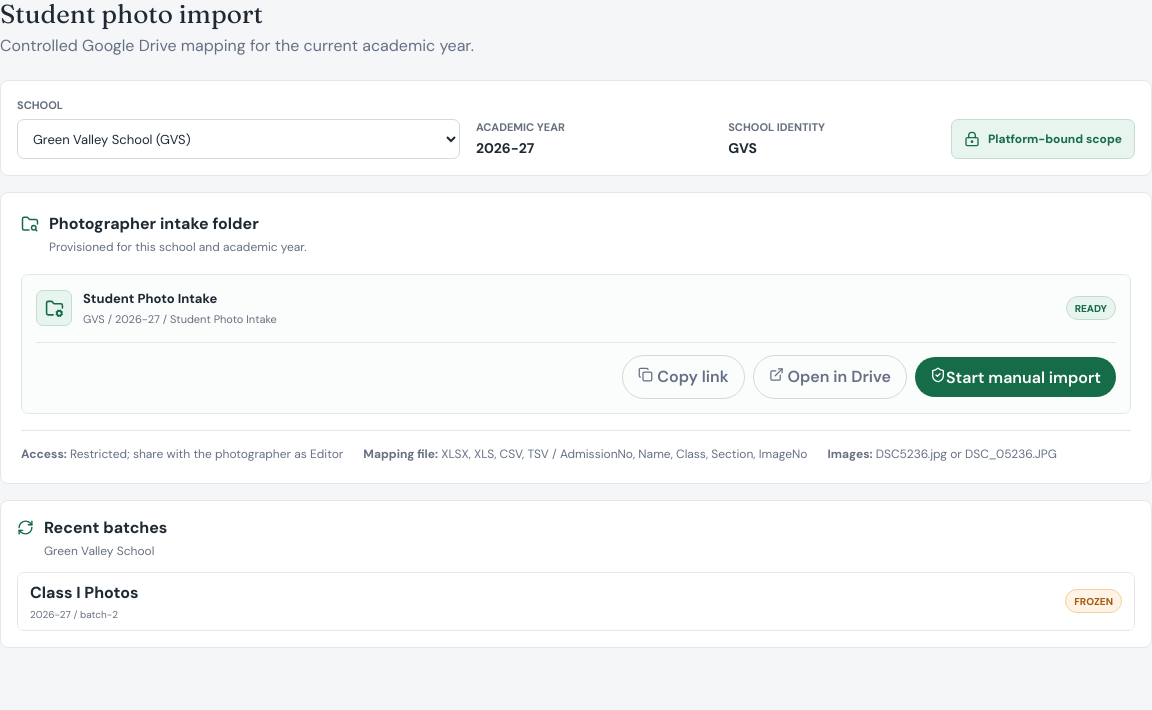
Test: PhotoImportPanel › requires scope confirmation and completes resumable execution chunks
Click the button "Class I Photos 2026-27 / batch-2 FROZEN": (84, 592) [18,573,1134,630]
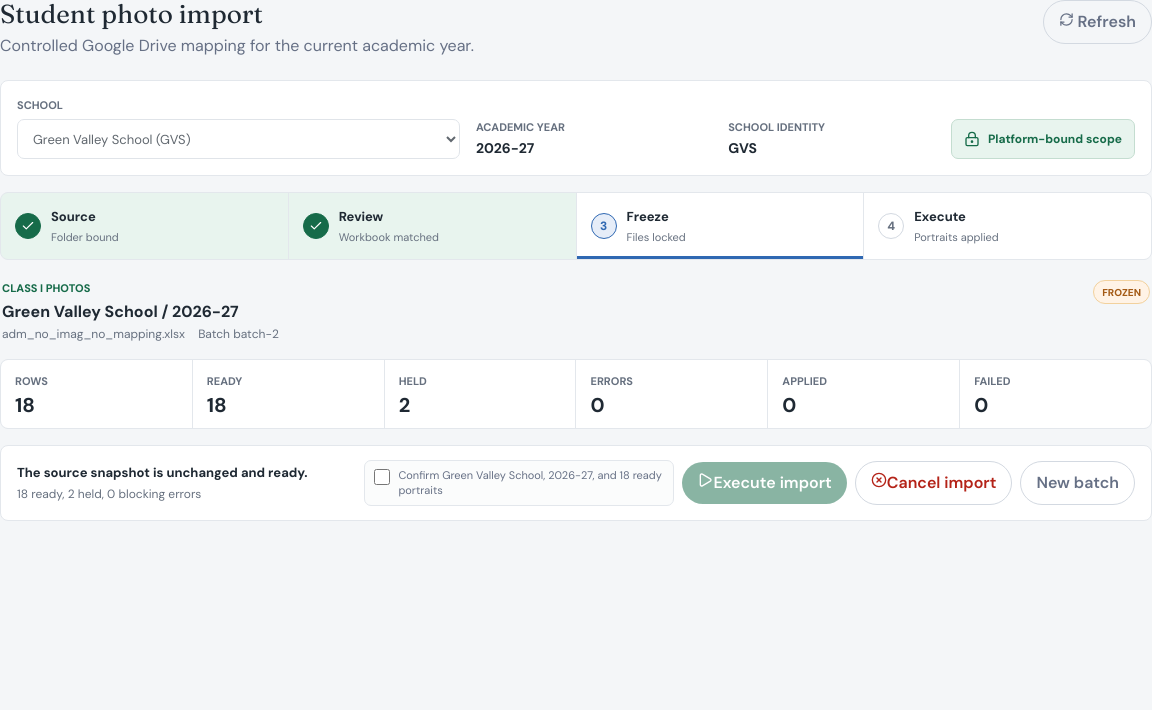
Check: the button "Execute import" is disabled, box [682,462,847,504]
Click the checkbox labelled "Confirm Green Valley School, 2026-27, and 18 ready portraits": (382, 477) [374,469,390,485]
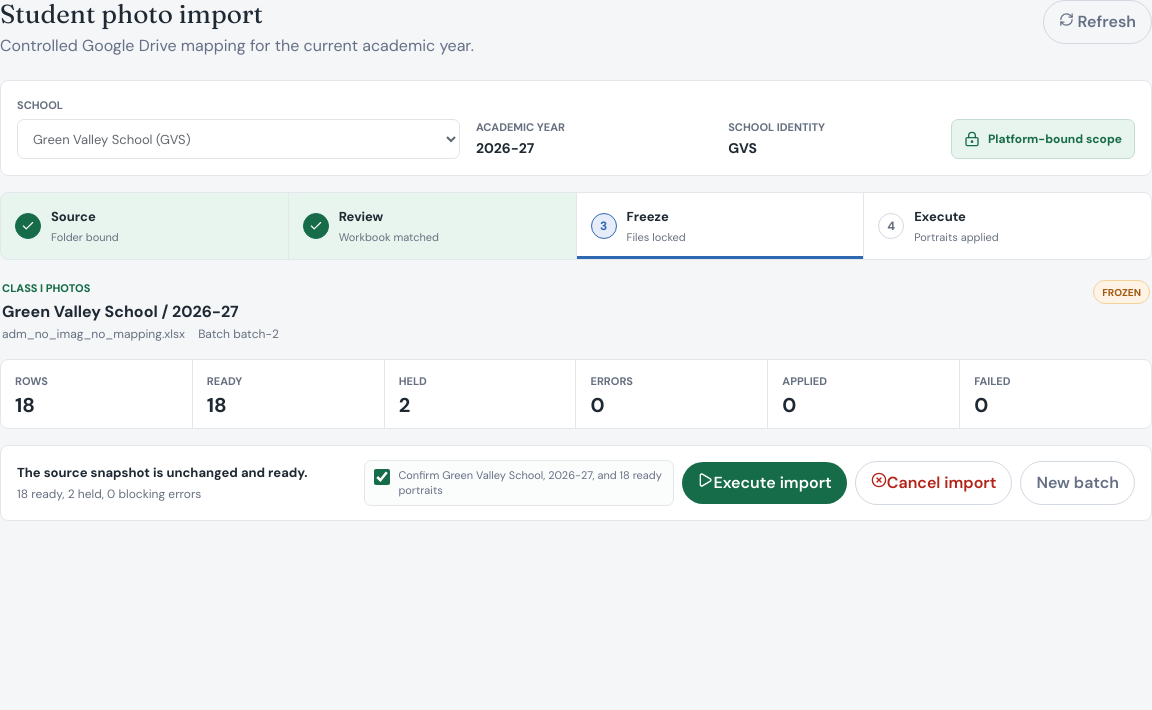
Check: the button "Execute import" is enabled
Click the button "Execute import": (765, 483) [682,462,847,504]
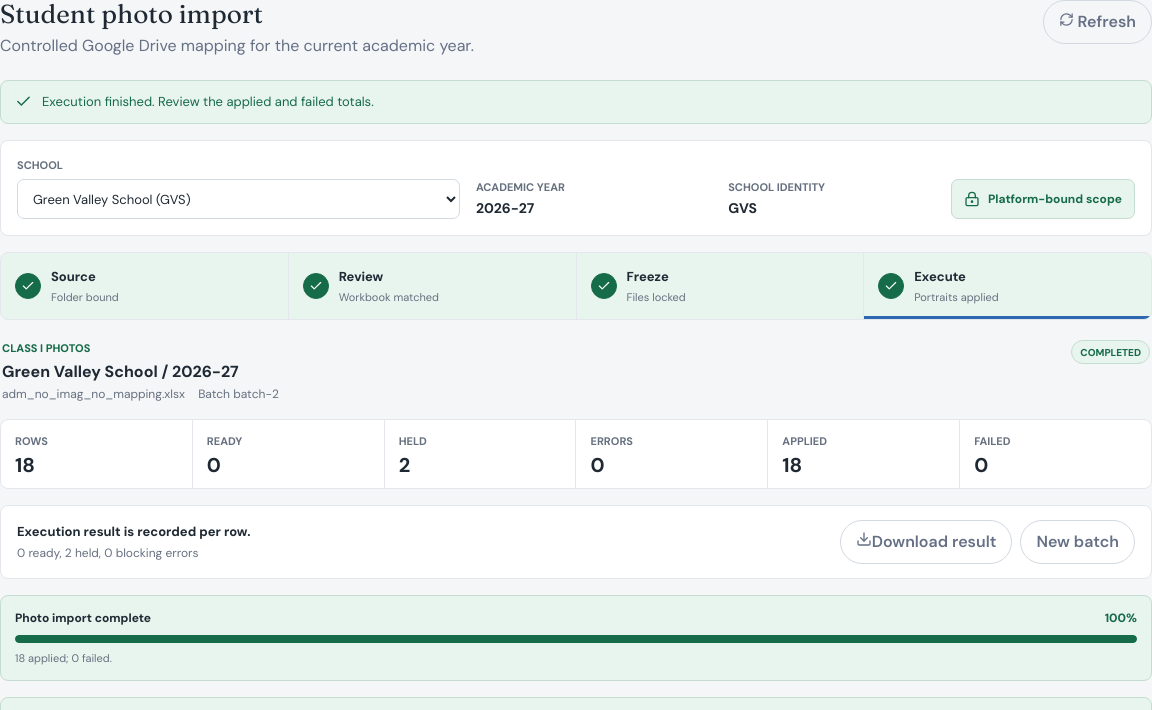
Check: the text "COMPLETED" is shown, box [1071,340,1150,364]
